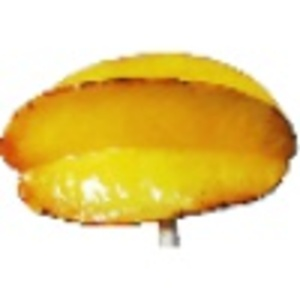carambola: (1, 50, 300, 244)
